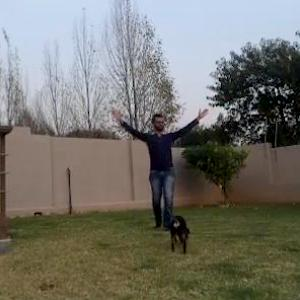takeoff: (97, 92, 218, 231)
